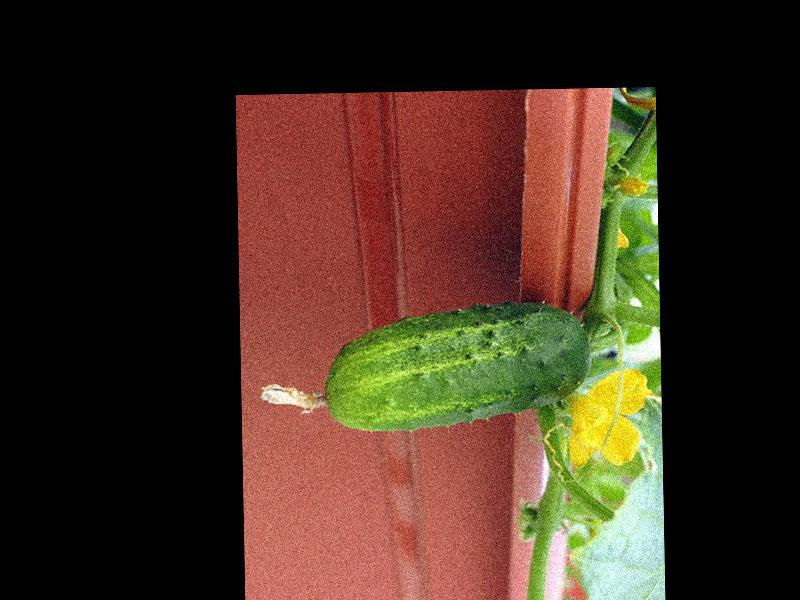Cucumber: (257, 301, 593, 435)
